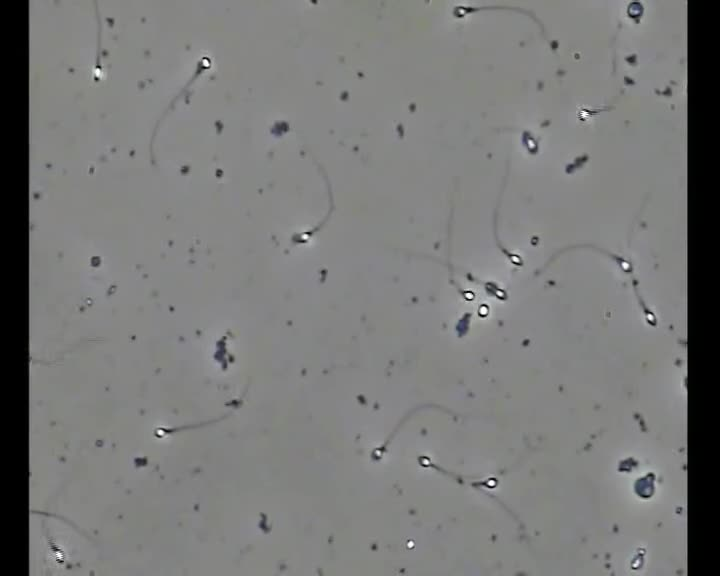spermhead: (453, 4, 473, 19), (577, 107, 593, 123), (506, 252, 523, 266), (371, 444, 385, 460), (153, 426, 170, 438), (417, 454, 432, 467)
